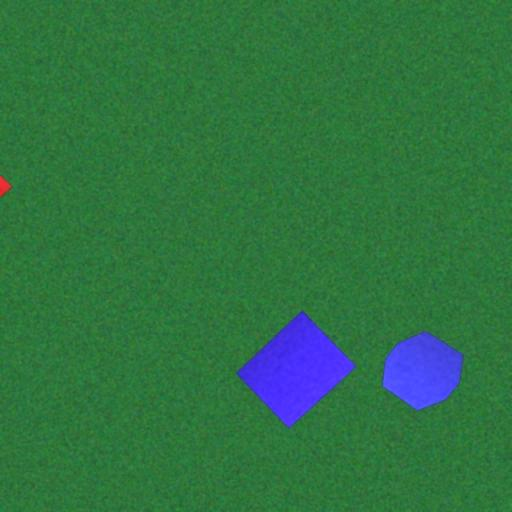BLUE_SQUARE: (235, 310, 357, 429)
